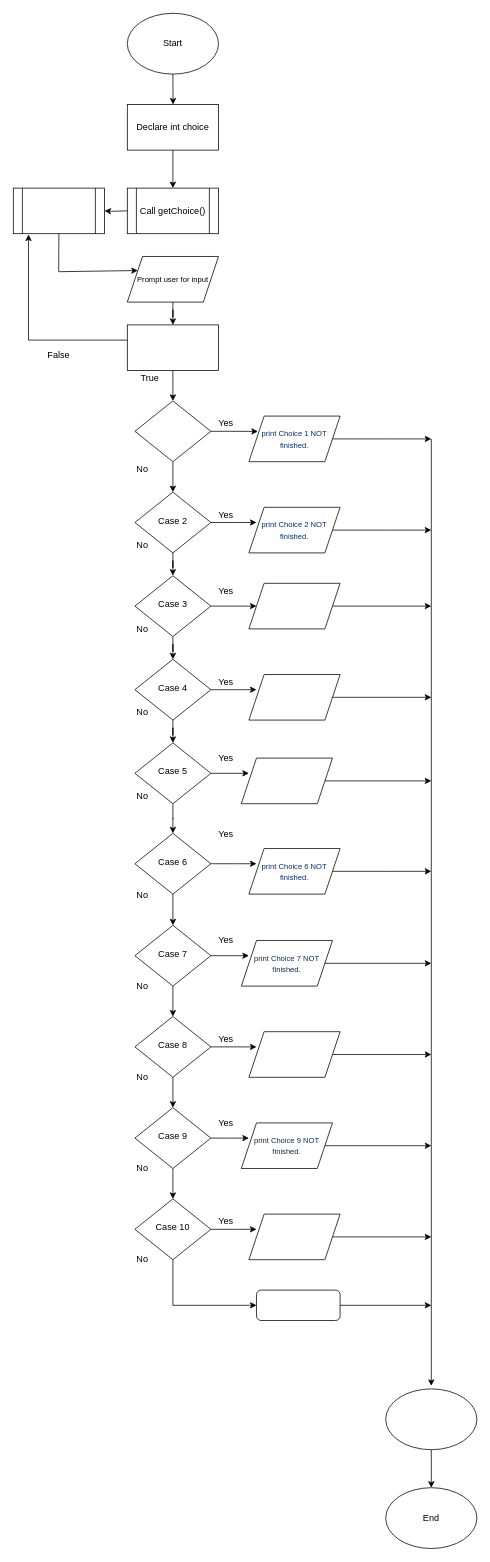
This 490x1562 diagram has some shape labels left out. The centre of each missing label's shape, as x and y in pixels:
Call menu(): the point at 58,210
Case 1: the point at 172,431
Check if input is valid: the point at 172,347
Default print "!": the point at 298,1304
print Choice 10 NOT finished.: the point at 294,1236
print Choice 3 NOT finished.: the point at 294,606
print Choice 4 NOT finished.: the point at 294,697
print Choice 5 NOT finished.: the point at 286,780
print Choice 8 NOT finished.: the point at 294,1054
Return choice: the point at 431,1419
